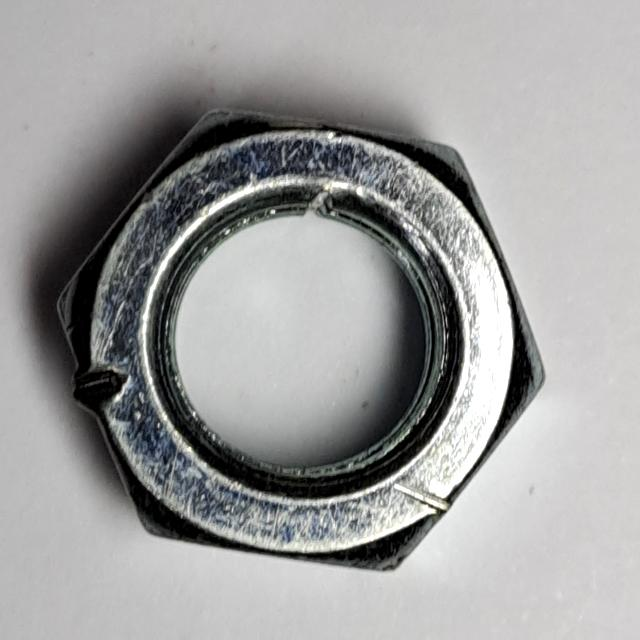Scratches: (42, 92, 556, 589)
